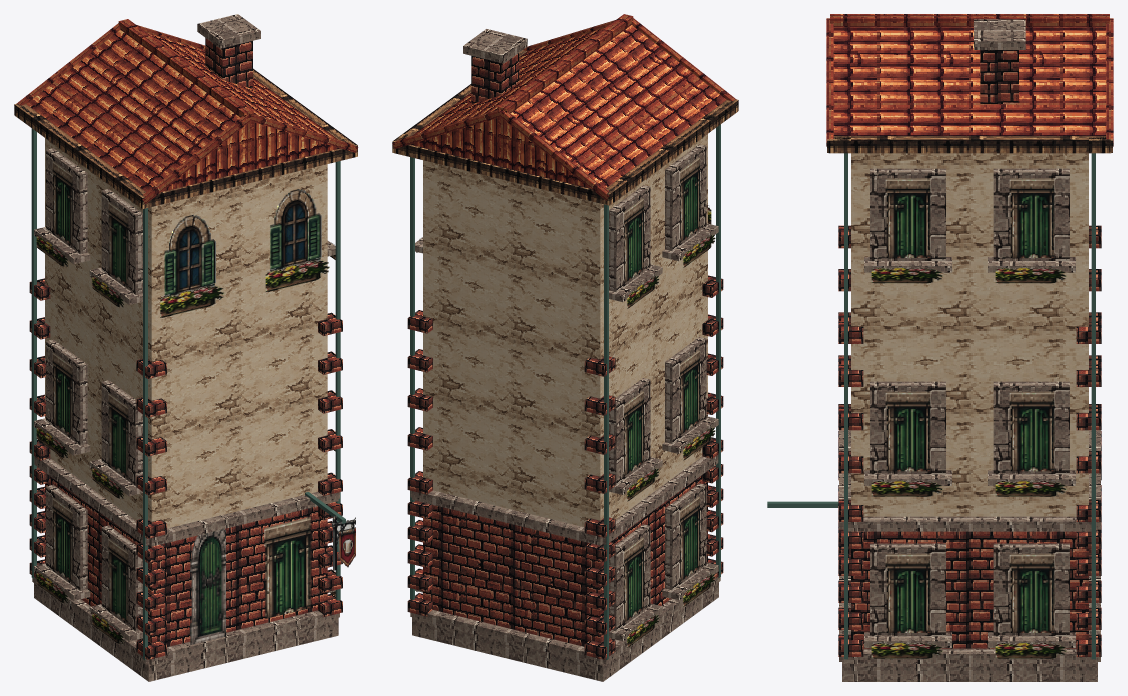
Rendered from tower.glb.
The picture shows the model from 3 angles, left to right: view 1: azimuth 30°, elevation 25°; view 2: azimuth 150°, elevation 25°; view 3: azimuth 270°, elevation 25°; orthographic projection. The views are drawn at different scales.
Visible parts, largest first — view 1: tower_p9_plaster, tower_p9_stone, tower_p9_roof, tower_p9_brick, tower_p9_window_shutter, tower_p9_window_arch, tower_p9_iron, tower_p9_wood, tower_p9_flowerbox, tower_p9_door_green, tower_p9_sign_banner; view 2: tower_p9_plaster, tower_p9_brick, tower_p9_stone, tower_p9_roof, tower_p9_window_shutter, tower_p9_wood, tower_p9_iron, tower_p9_flowerbox; view 3: tower_p9_plaster, tower_p9_stone, tower_p9_roof, tower_p9_brick, tower_p9_window_shutter, tower_p9_flowerbox, tower_p9_wood, tower_p9_iron.
Boxes of the visible parts, bbox=[...] form: tower_p9_plaster: bbox=[45, 138, 327, 528]; tower_p9_stone: bbox=[32, 14, 339, 681]; tower_p9_roof: bbox=[14, 19, 358, 203]; tower_p9_brick: bbox=[29, 38, 342, 659]; tower_p9_window_shutter: bbox=[52, 160, 310, 623]; tower_p9_window_arch: bbox=[164, 189, 321, 296]; tower_p9_iron: bbox=[31, 128, 345, 659]; tower_p9_wood: bbox=[14, 68, 357, 208]; tower_p9_flowerbox: bbox=[36, 233, 335, 644]; tower_p9_door_green: bbox=[190, 529, 225, 644]; tower_p9_sign_banner: bbox=[332, 516, 355, 570]; tower_p9_plaster: bbox=[423, 134, 707, 527]; tower_p9_brick: bbox=[407, 53, 723, 659]; tower_p9_stone: bbox=[410, 29, 720, 681]; tower_p9_roof: bbox=[392, 14, 738, 200]; tower_p9_window_shutter: bbox=[624, 156, 699, 622]; tower_p9_wood: bbox=[392, 50, 738, 205]; tower_p9_iron: bbox=[410, 124, 720, 659]; tower_p9_flowerbox: bbox=[416, 205, 715, 648]; tower_p9_plaster: bbox=[851, 153, 1088, 516]; tower_p9_stone: bbox=[839, 19, 1100, 681]; tower_p9_roof: bbox=[826, 14, 1113, 146]; tower_p9_brick: bbox=[838, 50, 1101, 656]; tower_p9_window_shutter: bbox=[885, 178, 1054, 632]; tower_p9_flowerbox: bbox=[871, 266, 1066, 658]; tower_p9_wood: bbox=[827, 136, 1112, 153]; tower_p9_iron: bbox=[767, 153, 1095, 659].
Size of the model in its own units: 4.66 by 11.68 by 5.81.
12 materials, 10 textured.
